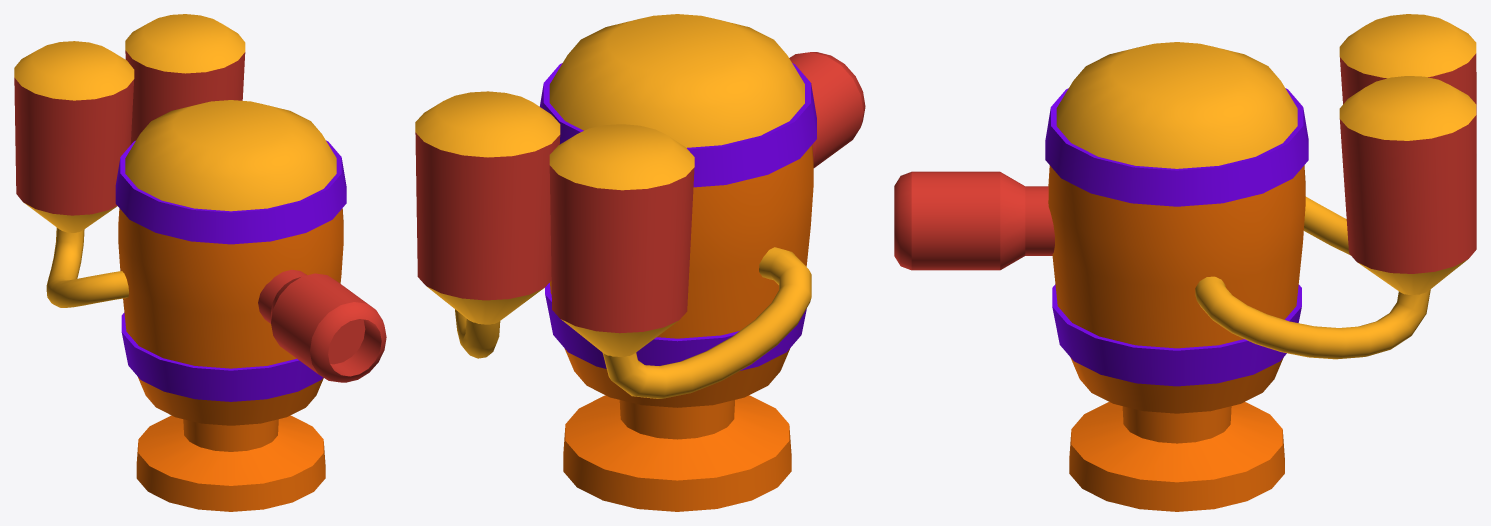
Rendered from Flamethrower_02.fbx.
The picture shows the model from 3 angles, left to right: view 1: azimuth 30°, elevation 25°; view 2: azimuth 150°, elevation 25°; view 3: azimuth 270°, elevation 25°; orthographic projection. The views are drawn at different scales.
Visible parts, largest first — view 1: Obstacle_Flamethrower_02; view 2: Obstacle_Flamethrower_02; view 3: Obstacle_Flamethrower_02.
Boxes of the visible parts, left/top/right/bottom form: Obstacle_Flamethrower_02: left=14, top=14, right=386, bottom=511; Obstacle_Flamethrower_02: left=415, top=14, right=865, bottom=511; Obstacle_Flamethrower_02: left=894, top=14, right=1476, bottom=511.
Size of the model in its own units: 100 by 123 by 161.
Materials: 1 (1 with a texture image).
